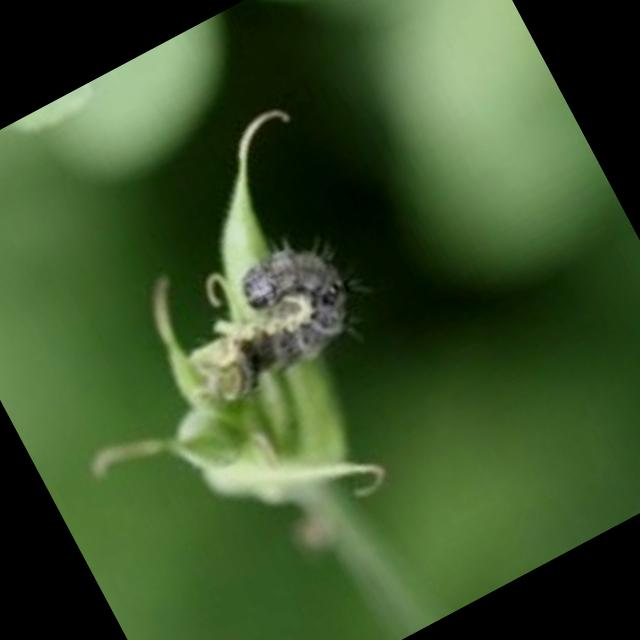Cotton bollworm: (135, 199, 404, 446)
